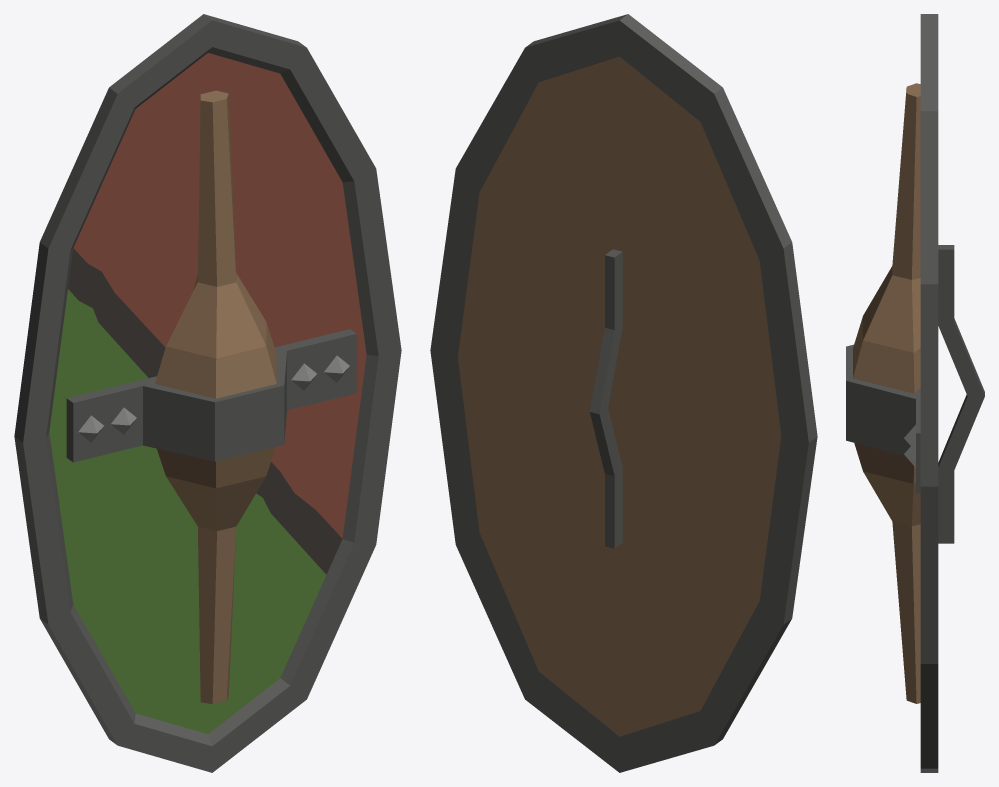
Rendered from SM_pwe_gauls_shield_08.fbx.
3 views of the same model, side by side, from view 1: azimuth 30°, elevation 25°; view 2: azimuth 150°, elevation 25°; view 3: azimuth 270°, elevation 25° (orthographic).
Visible parts, largest first — view 1: SM_pwe_gauls_shield_08; view 2: SM_pwe_gauls_shield_08; view 3: SM_pwe_gauls_shield_08.
Part boxes in pixels (bbox=[...]): SM_pwe_gauls_shield_08: bbox=[14, 14, 401, 772]; SM_pwe_gauls_shield_08: bbox=[430, 14, 817, 772]; SM_pwe_gauls_shield_08: bbox=[846, 14, 984, 772].
Size of the model in its own units: 59.23 by 113 by 18.66.
